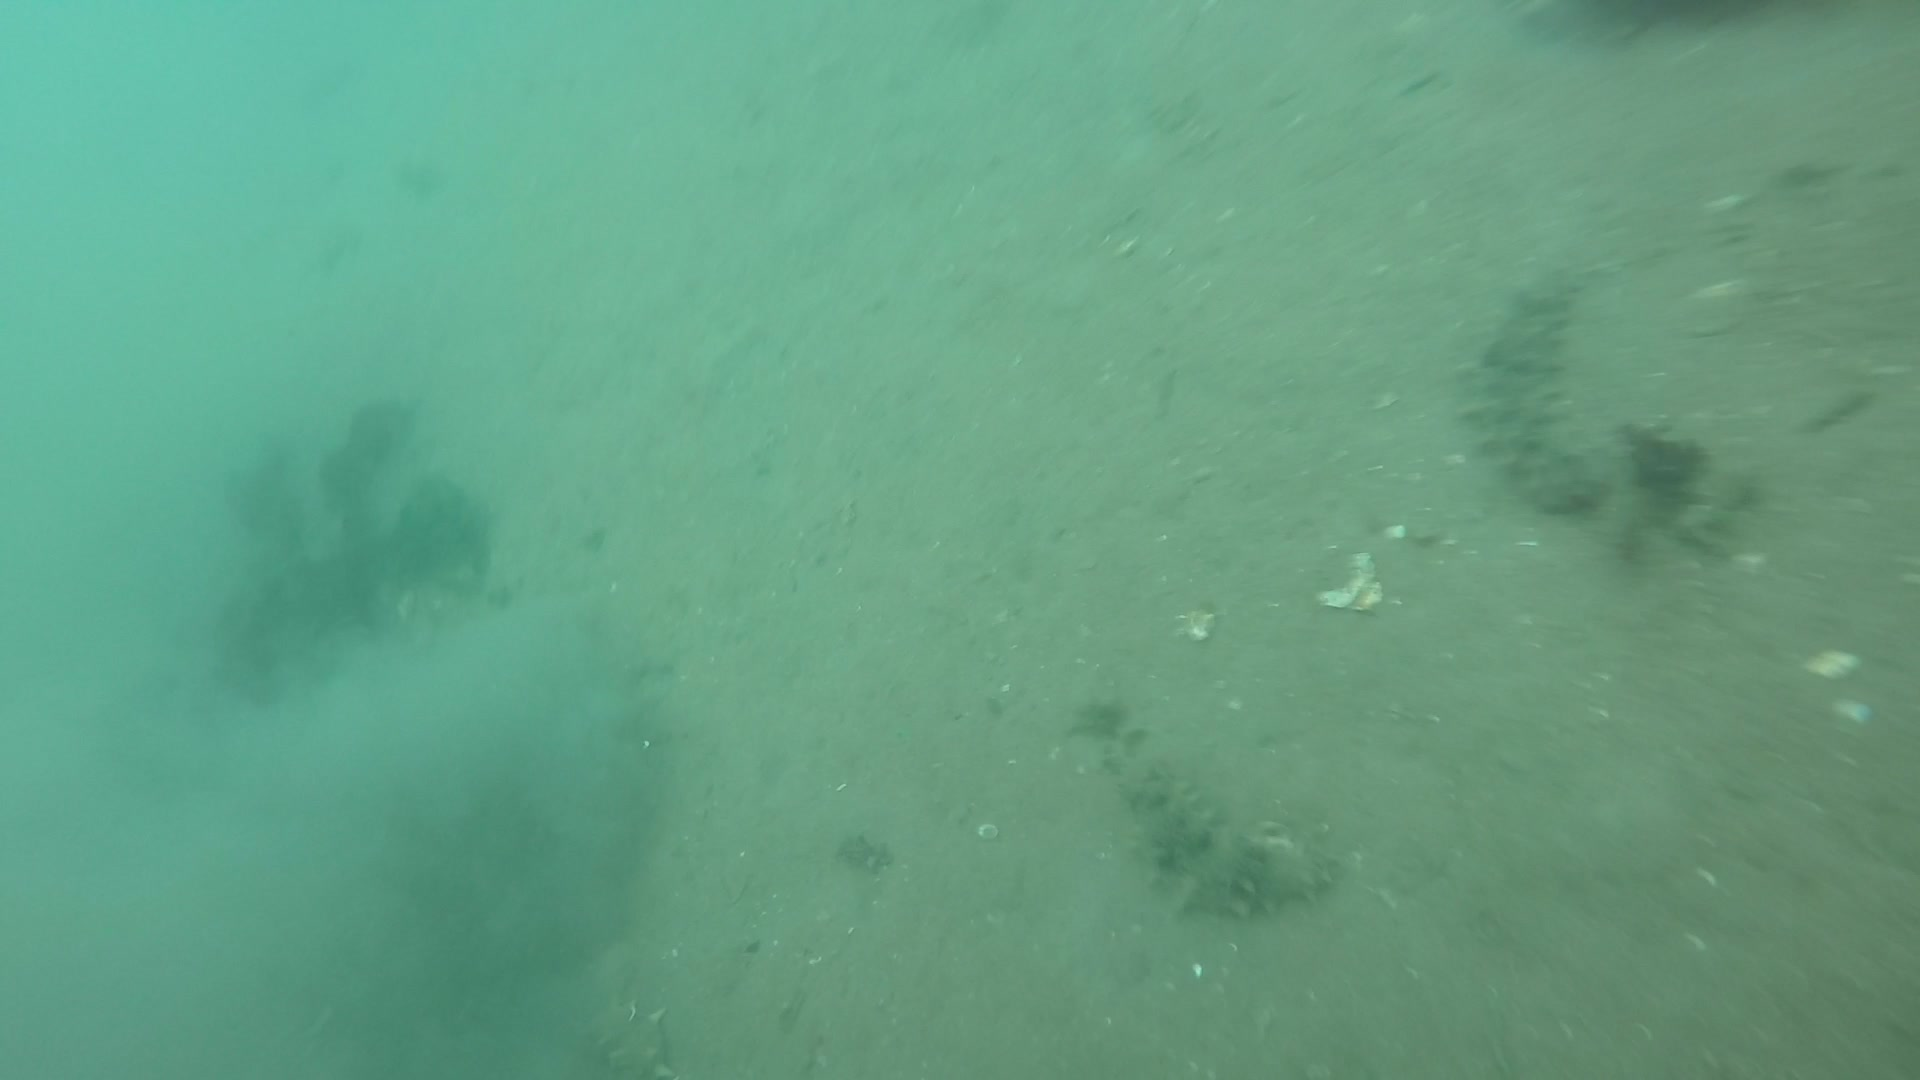holothurian: (1453, 273, 1625, 520), (1113, 761, 1344, 924)
